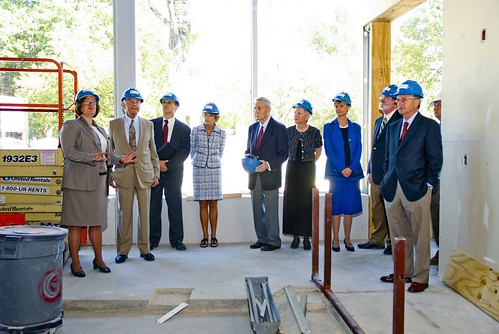person hardhat: (391, 80, 424, 116), (75, 89, 99, 118), (121, 87, 144, 116), (331, 91, 353, 119), (292, 98, 313, 125), (160, 92, 180, 119), (379, 84, 398, 112), (201, 103, 220, 126)
